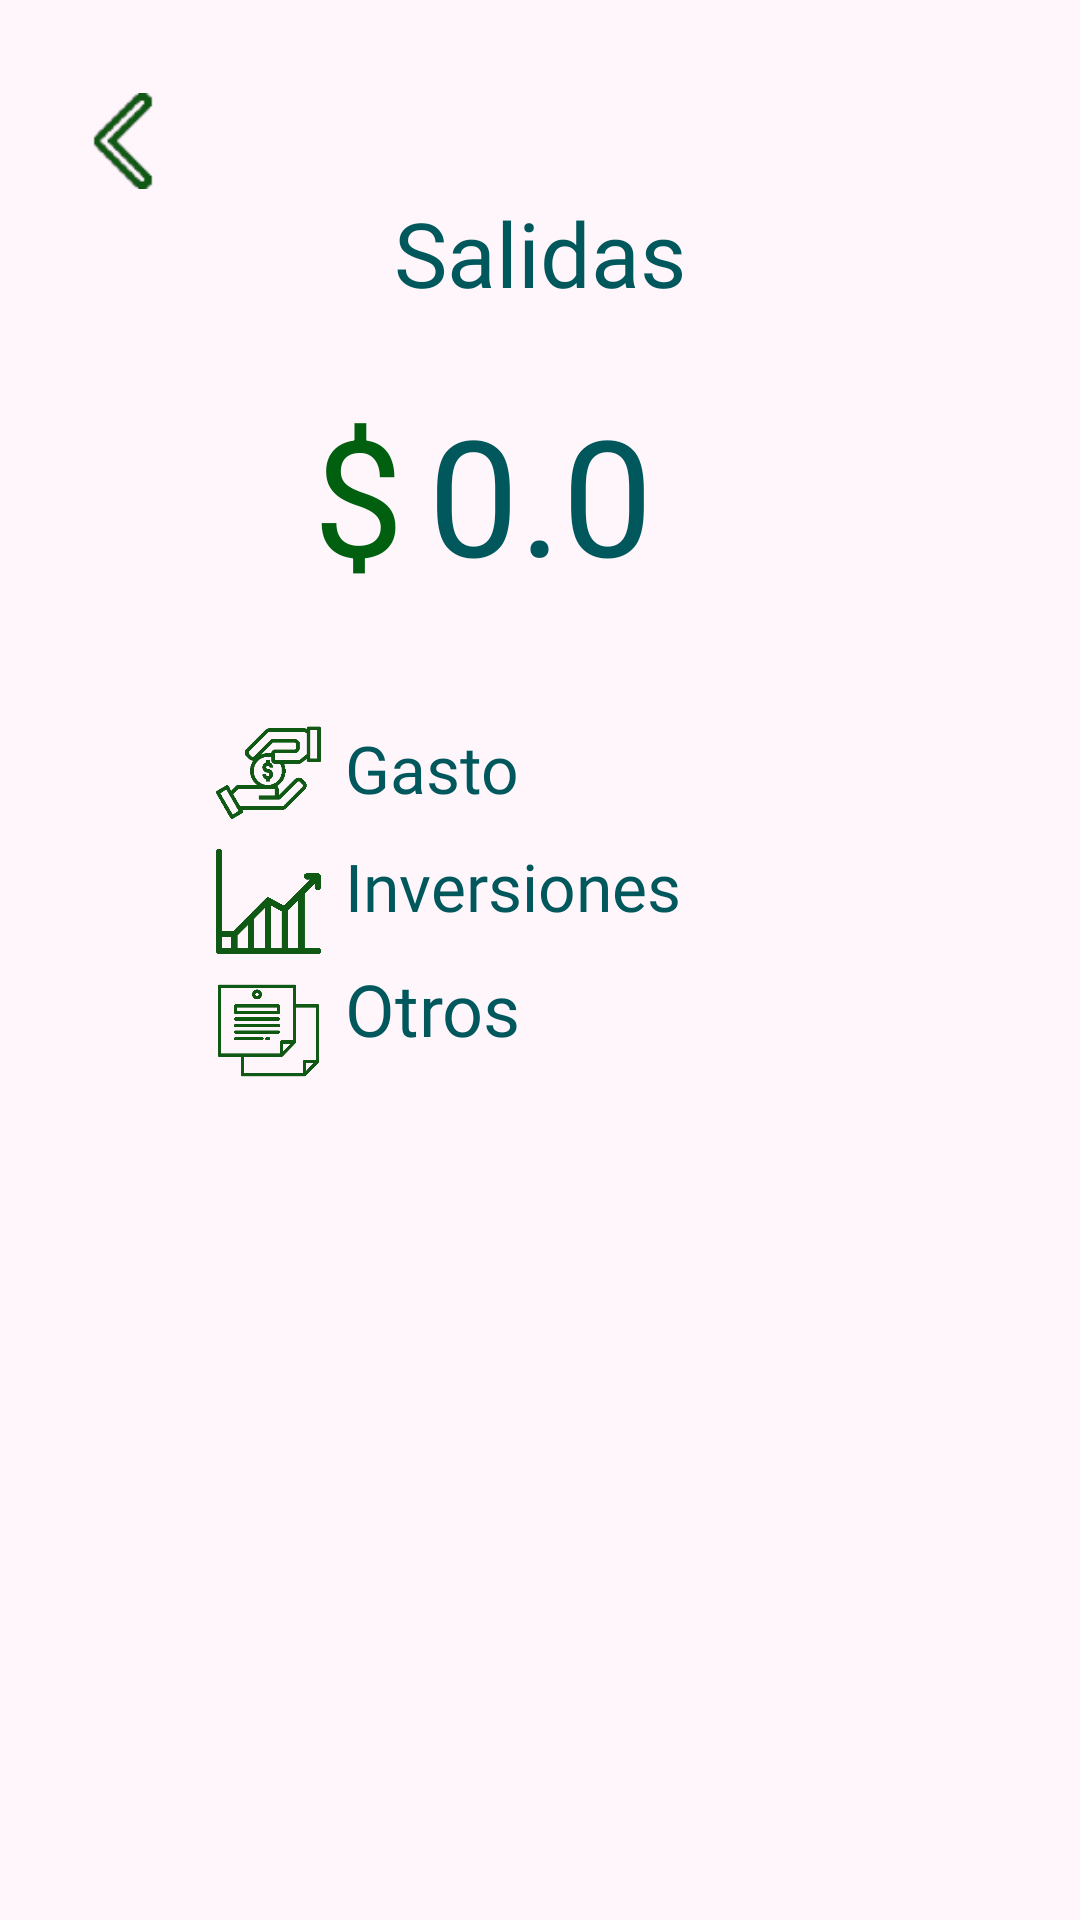

Screen size 1080 x 1920. Icon name, then its center in pixels as (x,y):
aainvesmant: (268,901)
flecha: (123,141)
